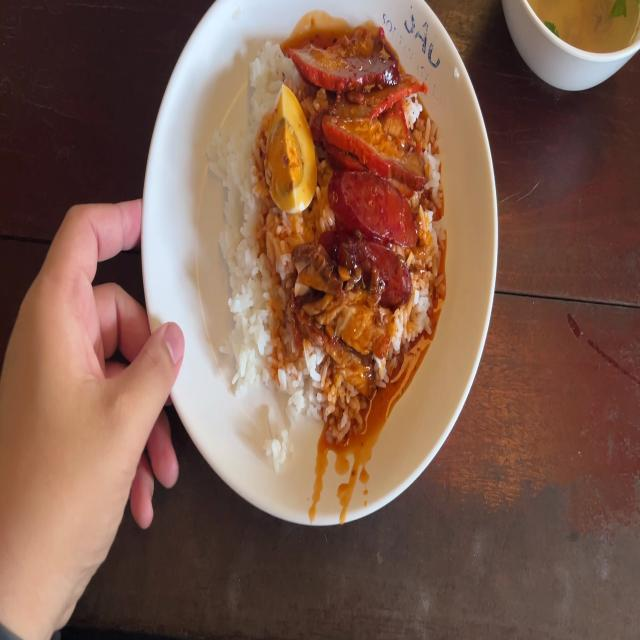red_pork_and_crispy_pork: (270, 88, 313, 207)
stir_fried_basil: (329, 174, 423, 295)
